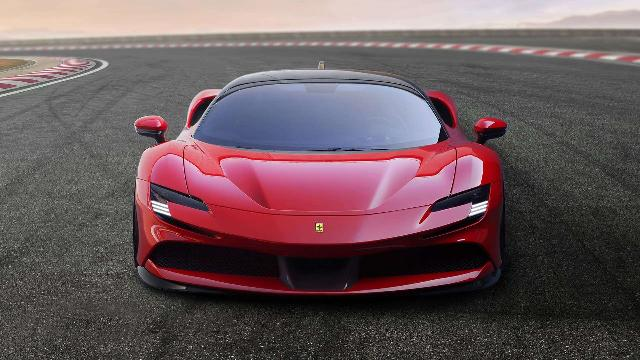ferrari: (135, 61, 508, 299)
